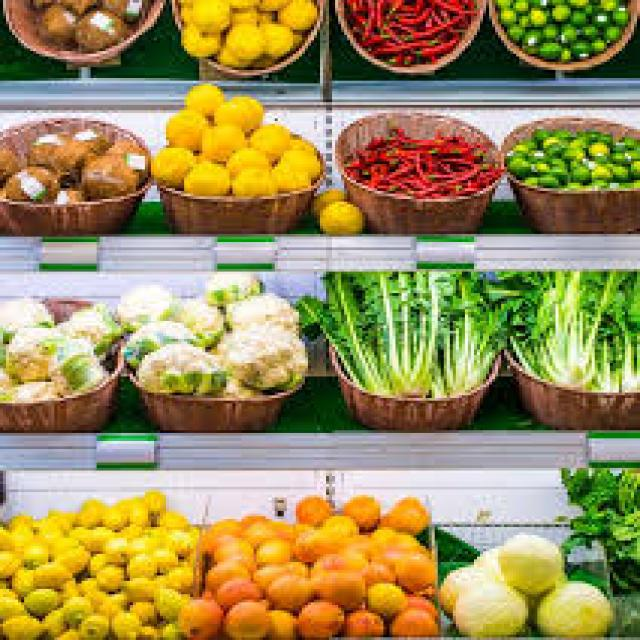organic waste: (341, 126, 495, 194), (555, 465, 637, 589), (341, 0, 474, 62), (534, 266, 604, 382), (401, 264, 459, 396), (320, 272, 380, 387), (353, 266, 405, 390), (214, 320, 302, 390), (486, 272, 543, 374), (296, 290, 359, 382), (432, 264, 474, 396), (465, 272, 513, 384), (130, 338, 223, 392), (531, 576, 610, 638), (492, 527, 559, 594), (3, 320, 75, 382), (450, 581, 528, 637), (604, 269, 637, 390), (121, 317, 199, 368), (580, 277, 616, 385), (42, 333, 103, 392), (27, 124, 112, 166), (223, 291, 299, 336), (441, 562, 498, 619), (54, 301, 121, 347), (72, 151, 136, 196), (109, 280, 163, 328), (169, 298, 220, 347), (0, 295, 54, 341), (0, 164, 66, 199), (202, 266, 257, 307), (90, 132, 145, 172), (263, 568, 314, 610), (69, 5, 121, 46), (311, 564, 359, 608), (290, 597, 341, 637), (247, 554, 305, 589), (389, 548, 435, 592), (211, 94, 260, 135), (362, 524, 417, 560), (175, 158, 227, 194), (247, 115, 290, 158), (45, 535, 88, 578), (220, 597, 266, 637), (166, 105, 205, 150), (175, 594, 217, 635), (205, 556, 251, 592), (311, 546, 362, 578), (359, 581, 405, 616), (335, 492, 377, 530), (36, 2, 72, 46), (317, 199, 362, 234), (175, 19, 220, 54), (387, 492, 422, 535), (151, 145, 196, 178), (260, 16, 296, 57), (383, 605, 429, 637), (187, 0, 232, 32), (148, 581, 184, 621), (226, 161, 269, 194), (293, 524, 335, 557), (49, 535, 85, 573), (224, 19, 262, 54), (281, 142, 320, 175), (290, 495, 329, 527), (188, 78, 220, 116), (0, 376, 57, 397), (247, 535, 290, 562), (202, 511, 245, 538), (211, 578, 254, 605), (413, 27, 456, 54), (223, 146, 269, 170), (0, 610, 39, 638), (157, 559, 190, 592), (30, 559, 66, 589), (70, 126, 108, 154), (106, 605, 139, 637), (320, 511, 356, 540), (371, 38, 435, 54), (269, 162, 308, 188), (610, 471, 637, 508), (278, 0, 311, 30), (200, 530, 238, 556), (426, 0, 477, 19), (208, 374, 254, 395), (100, 530, 130, 562), (90, 562, 120, 594), (40, 605, 70, 637), (72, 524, 106, 552), (348, 605, 383, 632), (18, 586, 57, 610), (72, 497, 100, 530), (130, 519, 160, 549), (18, 535, 48, 565), (42, 506, 72, 535), (212, 538, 248, 562), (139, 486, 163, 522), (124, 546, 151, 578), (103, 0, 148, 19), (408, 148, 432, 183), (76, 610, 106, 638), (582, 468, 612, 495), (61, 594, 88, 624), (0, 145, 21, 183), (311, 188, 344, 212), (3, 508, 36, 532), (151, 540, 175, 573), (121, 576, 154, 600), (582, 134, 610, 162), (269, 608, 296, 637), (115, 495, 142, 524), (242, 519, 278, 540), (51, 183, 90, 202), (0, 546, 21, 581), (157, 508, 184, 535), (163, 527, 190, 554), (94, 589, 124, 613), (468, 543, 498, 565), (562, 473, 586, 500), (408, 589, 438, 610), (392, 6, 428, 22), (516, 27, 540, 51), (102, 506, 126, 530), (6, 568, 30, 592), (556, 137, 582, 159), (214, 43, 244, 62), (504, 156, 531, 177), (366, 557, 390, 578), (538, 132, 562, 153), (78, 546, 102, 567), (130, 600, 154, 621), (0, 342, 9, 396), (544, 2, 568, 22), (57, 0, 100, 11), (256, 0, 292, 13), (362, 0, 374, 38), (0, 592, 21, 613), (538, 19, 556, 43), (534, 38, 558, 56), (522, 6, 540, 30), (0, 527, 18, 551), (145, 621, 172, 637), (528, 124, 550, 142), (287, 134, 311, 150), (595, 24, 619, 40), (586, 164, 606, 183), (556, 22, 574, 43), (607, 159, 625, 180), (613, 132, 634, 150), (532, 172, 558, 186), (568, 162, 588, 180), (564, 38, 586, 54), (607, 6, 628, 22), (504, 146, 525, 162), (492, 6, 510, 24), (586, 167, 606, 183), (576, 19, 594, 35), (622, 156, 637, 172), (552, 124, 574, 134), (582, 126, 600, 138), (510, 0, 528, 11), (562, 0, 586, 8), (238, 511, 260, 519), (595, 0, 616, 8), (184, 522, 199, 532), (229, 0, 256, 5), (550, 156, 564, 164), (562, 180, 580, 186), (513, 140, 525, 148)
